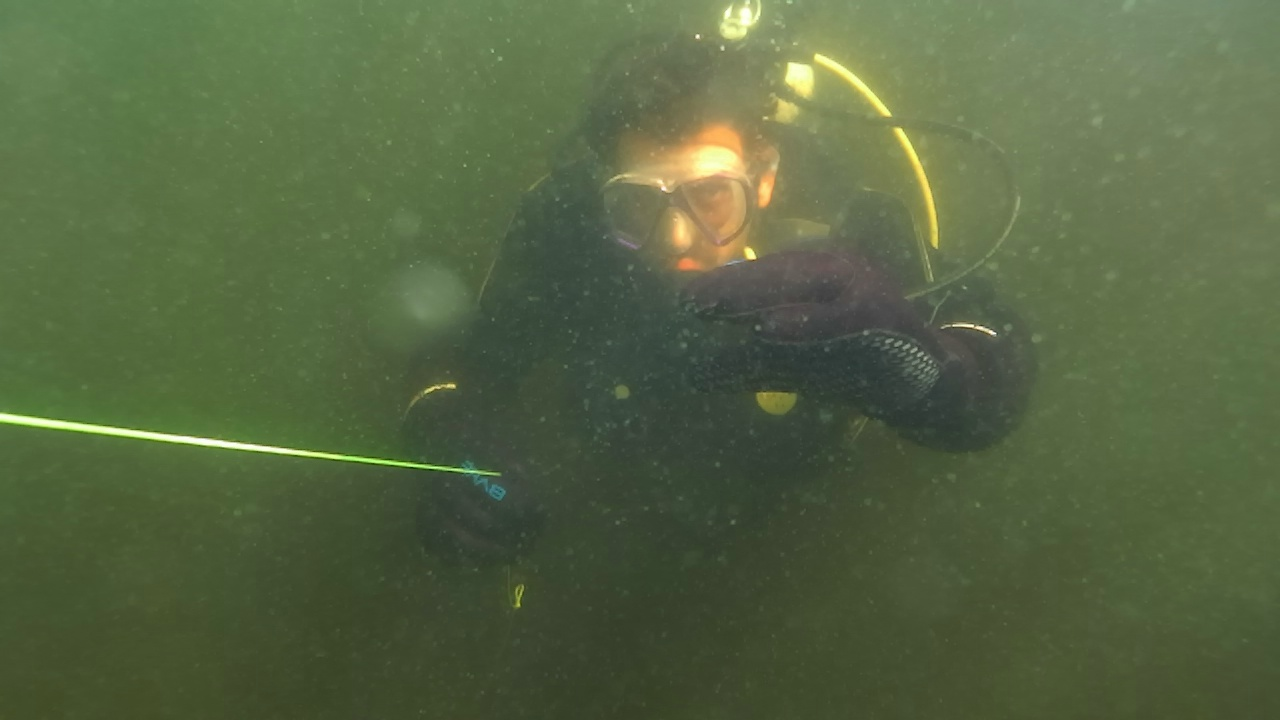Diver: (320, 12, 1108, 604)
Hand: (624, 246, 1018, 442), (374, 372, 564, 584)
Head: (570, 24, 798, 292)
